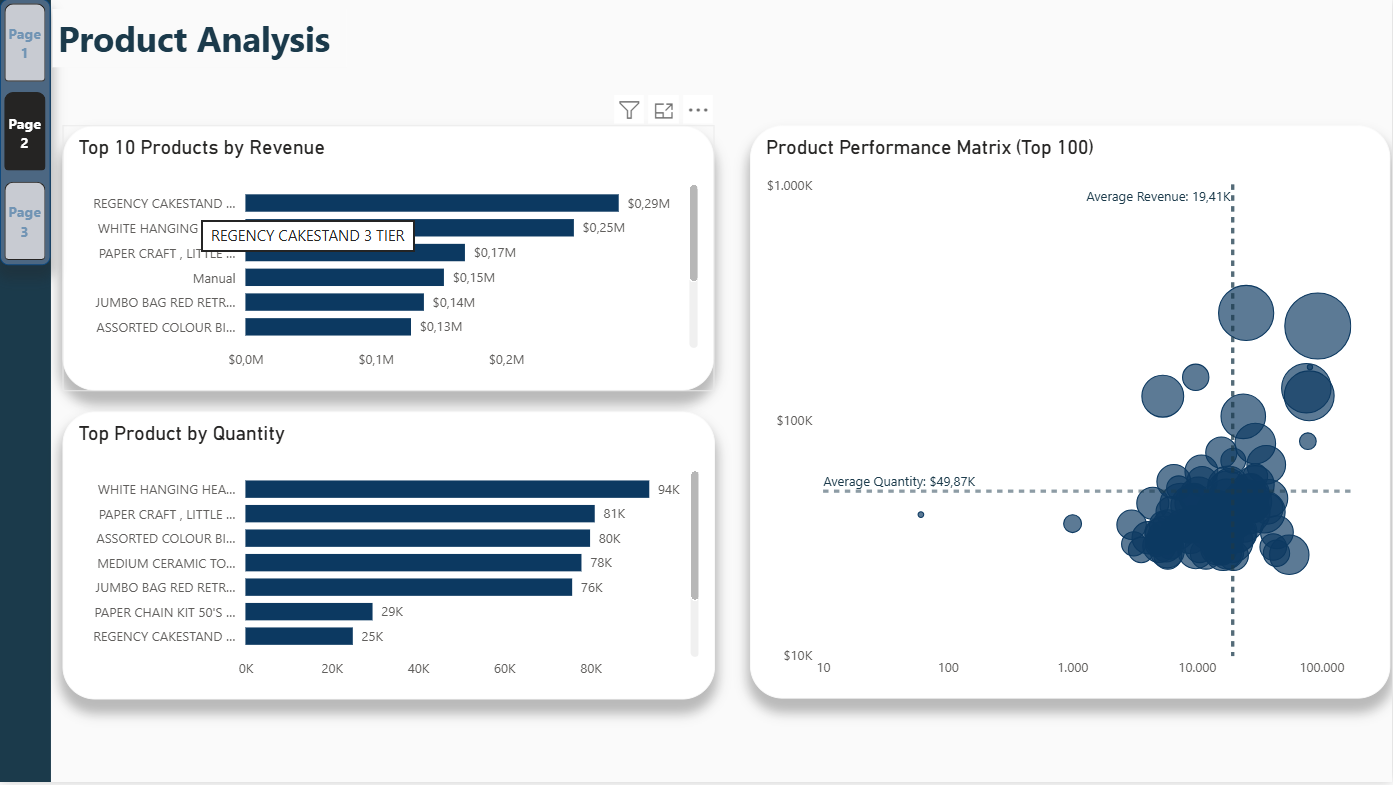

The page's visual inventory and layout, read from the dashboard file:
{"tool":"powerbi","page":{"name":"Page 2","canvas":[1280,720],"ordinal":1},"visuals":[{"type":"clusteredBarChart","title":"Top 10 Products by Revenue","fields":{"Category":["online_retail_cleaned.Description"],"Y":["online_retail_cleaned.Total Revenue"]},"box":[57.2,116.6,599.3,244.1],"z":0},{"type":"shape","box":[-0.7,0,48,720],"z":2000},{"type":"pageNavigator","box":[0,0,46.6,244.8],"z":3000},{"type":"scatterChart","title":"Product Performance Matrix (Top 100)","fields":{"Category":["online_retail_cleaned.Description"],"X":["Sum(online_retail_cleaned.Quantity)"],"Y":["online_retail_cleaned.Total Revenue"],"Size":["online_retail_cleaned.Total Orders"]},"box":[689.5,116,588.8,527.5],"z":4000},{"type":"clusteredBarChart","title":"Top Product by Quantity","fields":{"Category":["online_retail_cleaned.Description"],"Y":["Sum(online_retail_cleaned.Quantity)"]},"box":[57.2,379.4,600.4,265],"z":5000},{"type":"textbox","box":[48.4,8.8,270.5,53.9],"z":5001}]}

Visuals, with their boxes on the page's 1280x720 design canvas (x1, y1, x2, y2). These are canvas units, not pixel positions in the 1393x785 screenshot, which may show the page scaled, cropped or inside an application window:
"Top 10 Products by Revenue" clusteredBarChart: bbox=[57, 117, 656, 361]
shape: bbox=[-1, 0, 47, 720]
pageNavigator: bbox=[0, 0, 47, 245]
"Product Performance Matrix (Top 100)" scatterChart: bbox=[690, 116, 1278, 644]
"Top Product by Quantity" clusteredBarChart: bbox=[57, 379, 658, 644]
textbox: bbox=[48, 9, 319, 63]
